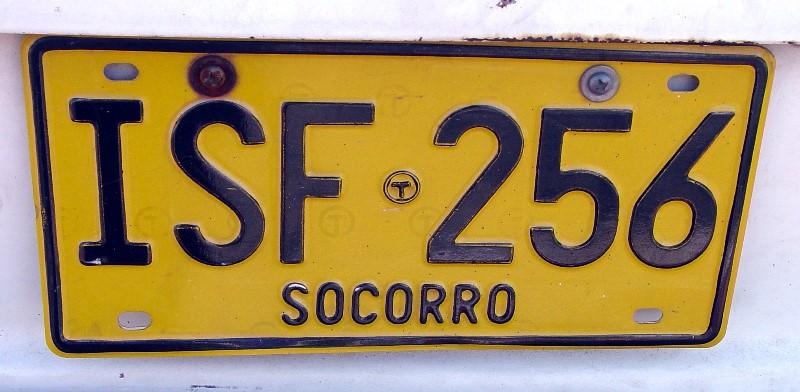placas: (16, 16, 777, 360)
